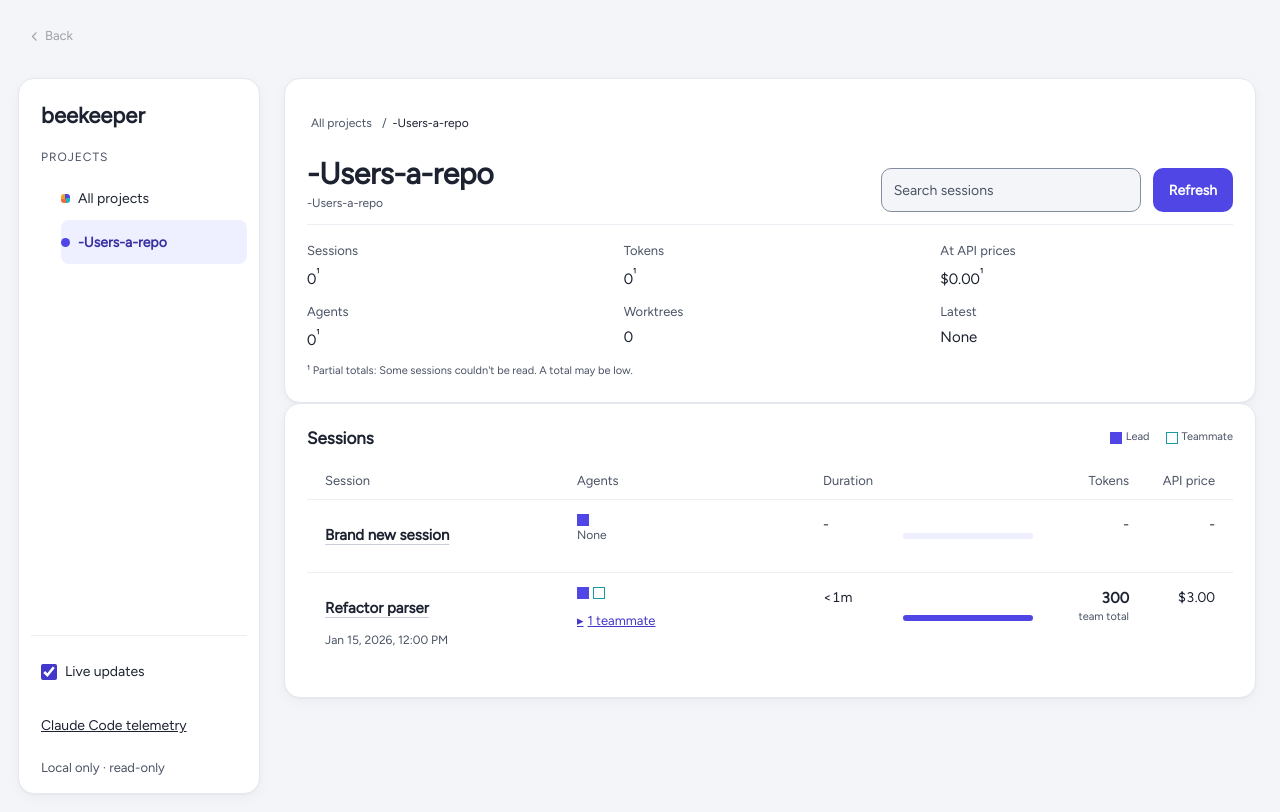
it: refreshing the lists on window focus › shows a session that appeared, and keeps the cards, after the stale time
Check: the heading "Brand new session" is shown, box [325,514,449,558]
Check: the heading "Refactor parser" is shown, box [325,586,429,630]
Click the button "▸ 1 teammate" at (616, 620), box [577,598,656,642]
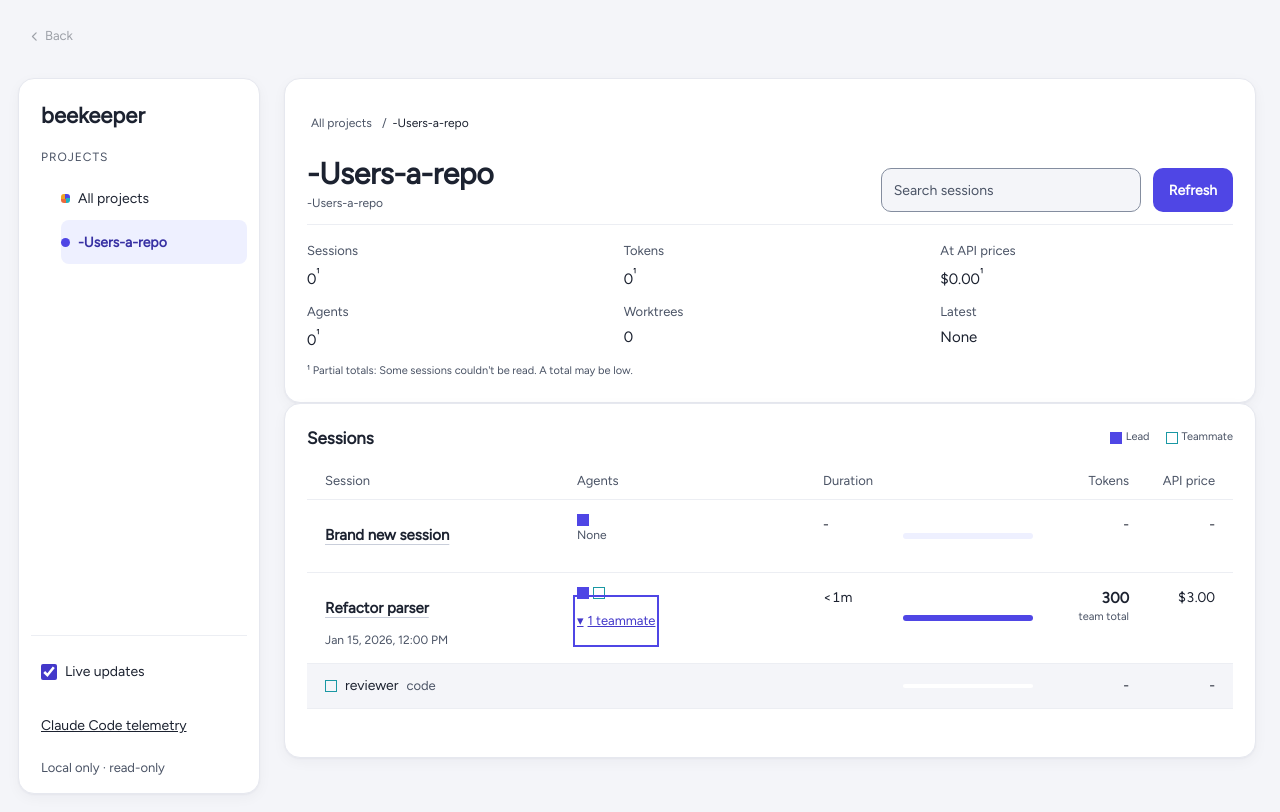
Check: the button "reviewer code - -" is shown, box [307,664,1233,708]
